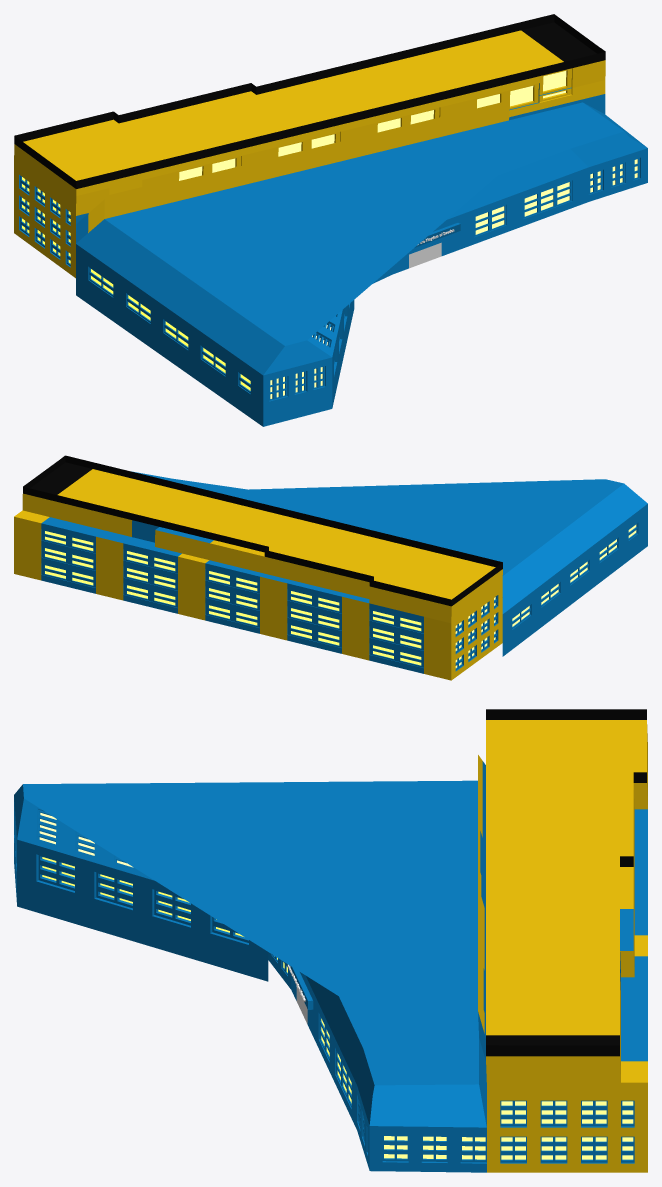
Rendered from embassy_of_sweden.fbx.
3 renders of one model, top to bottom at view 1: azimuth 30°, elevation 25°; view 2: azimuth 150°, elevation 25°; view 3: azimuth 270°, elevation 25°, orthographic. The views are drawn at different scales.
Visible parts, largest first — view 1: Plane; view 2: Plane; view 3: Plane.
Part boxes in pixels (x1,y1,x2,y2): Plane: (14,14,647,426); Plane: (14,455,647,680); Plane: (14,709,647,1172).
Bounding box in the file's own units: 987 × 204 × 787.
